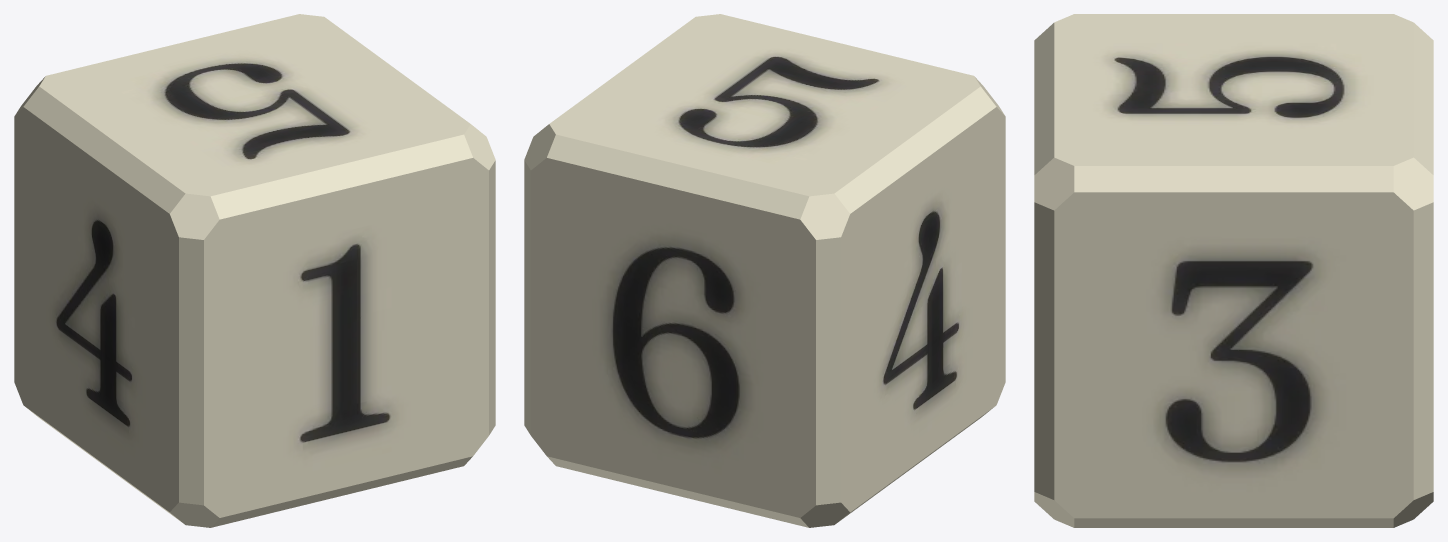
The picture shows the model from 3 angles, left to right: view 1: azimuth 30°, elevation 25°; view 2: azimuth 150°, elevation 25°; view 3: azimuth 270°, elevation 25°; orthographic projection. The views are drawn at different scales.
Parts seen in each view (by area): view 1: D6; view 2: D6; view 3: D6.
Boxes of the visible parts, <box> form: D6: <box>14,14,495,527</box>; D6: <box>524,14,1005,527</box>; D6: <box>1034,14,1433,527</box>.
Size of the model in its own units: 2 by 2 by 2.
Materials: 1 (1 with a texture image).
